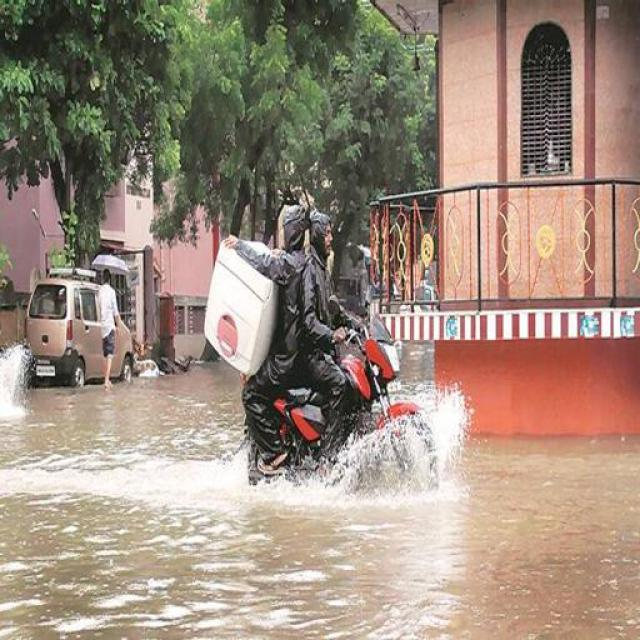puddle: (201, 496, 640, 640), (5, 381, 234, 640), (438, 434, 640, 560)
